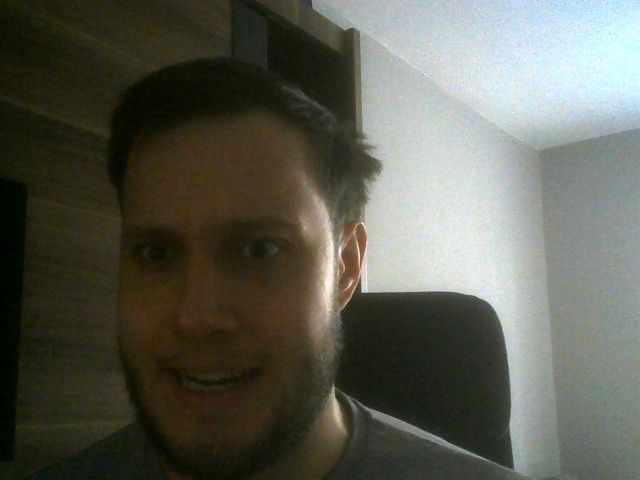angry: (110, 70, 365, 478)
